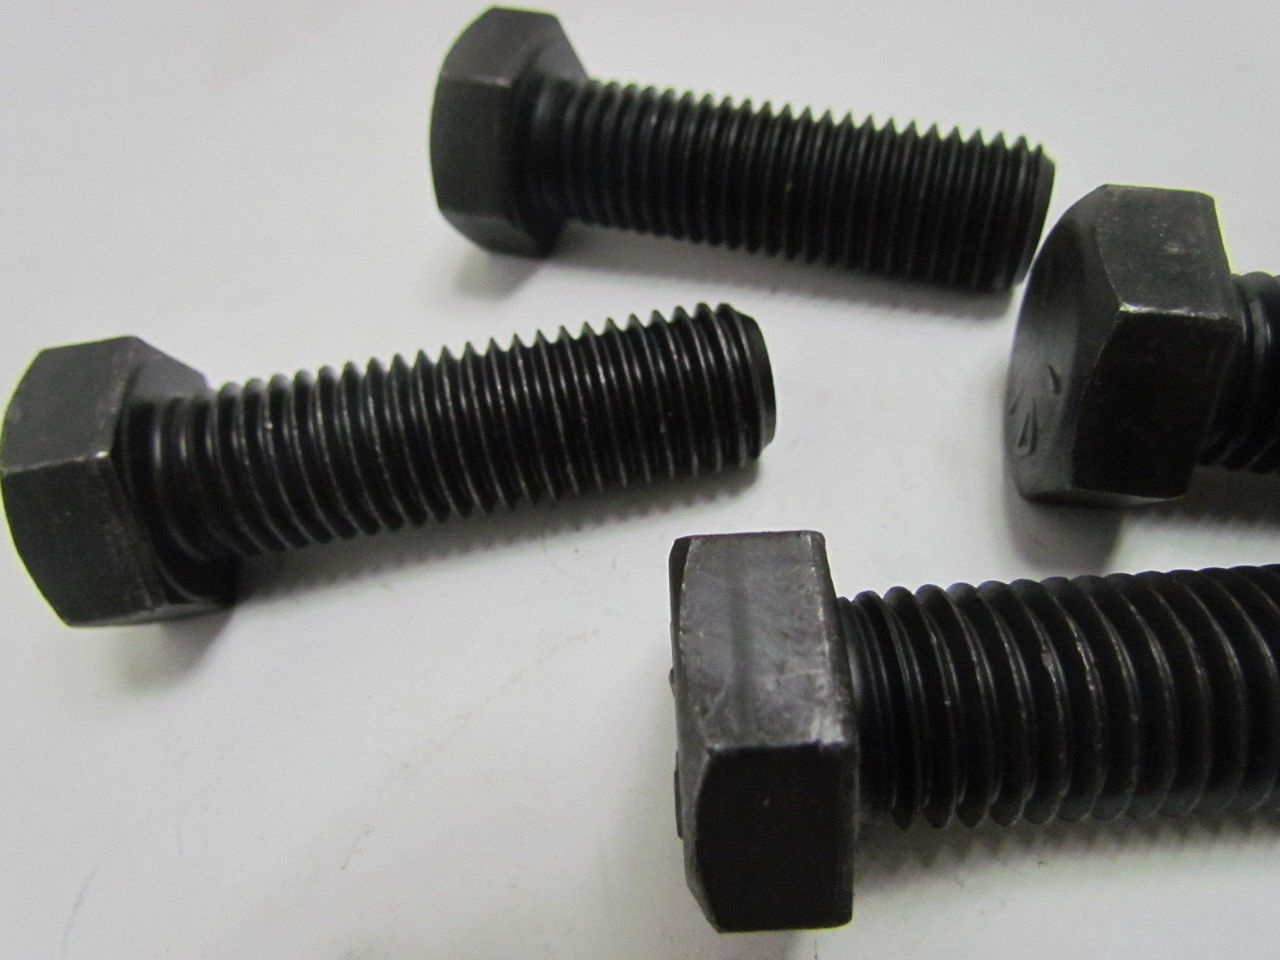screw: (1, 299, 777, 627), (670, 531, 1280, 935), (430, 6, 1056, 294), (1006, 186, 1280, 509)
